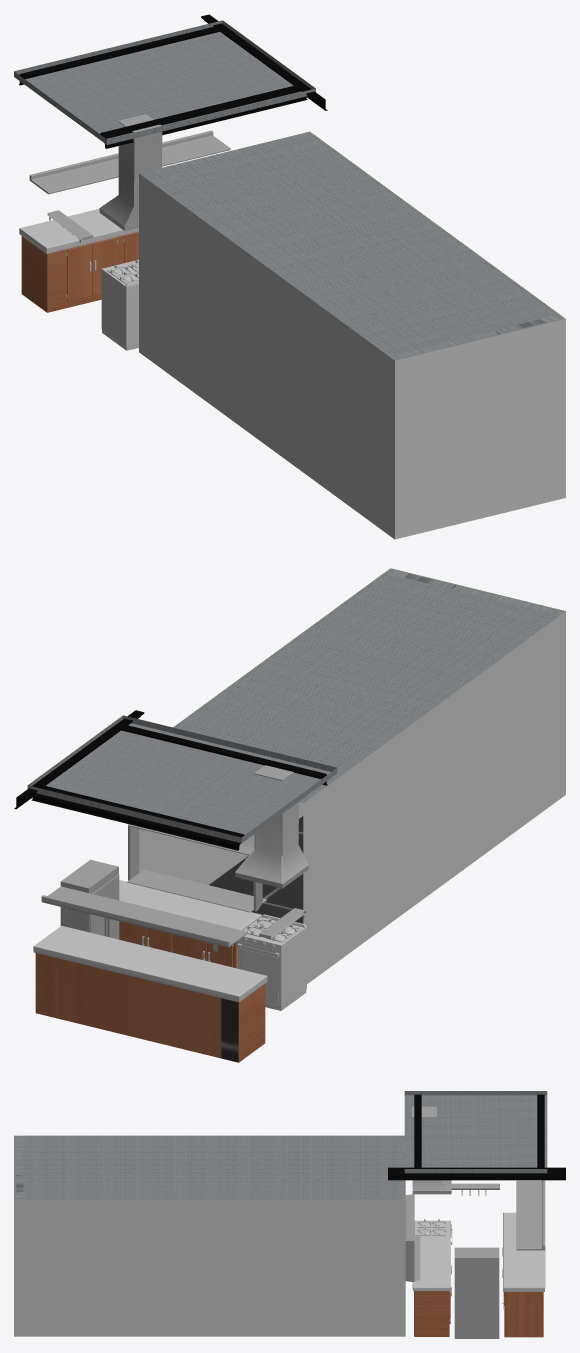
Rendered from kitchen06_02.fbx.
3 views of the same model, one above another, from view 1: azimuth 30°, elevation 25°; view 2: azimuth 150°, elevation 25°; view 3: azimuth 270°, elevation 25° (orthographic). The views are drawn at different scales.
Parts seen in each view (by area): view 1: pCube196, pCube12, polySurface26, pCylinder38, polySurface50, burners5, polySurface123, pCube19 (×2), polySurface126, polySurface127; view 2: pCube196, polySurface26, pCube12, pCylinder38, polySurface50, pCube98, counter_front1, burners5, polySurface126, pCube40, pCube101_f_7_, polySurface123 (+1 smaller); view 3: pCube196, pCube12, pCube40, polySurface26, counter_front1, pCylinder38, polySurface127, pCube98, polySurface50, polySurface123, polySurface126, burners5 (+1 smaller).
Boxes of the visible parts, x1,y1,x2,y2 form: pCube196: [139, 131, 565, 539]; pCube12: [14, 20, 315, 144]; polySurface26: [19, 209, 138, 312]; pCylinder38: [29, 130, 230, 194]; polySurface50: [99, 114, 162, 230]; burners5: [101, 259, 138, 350]; polySurface123: [100, 84, 307, 148]; pCube19 (×2): [67, 237, 116, 301]; polySurface126: [19, 25, 225, 85]; polySurface127: [201, 14, 327, 110]; pCube196: [128, 568, 565, 983]; polySurface26: [33, 926, 267, 1062]; pCube12: [27, 715, 337, 843]; pCylinder38: [41, 886, 247, 951]; polySurface50: [235, 765, 308, 888]; pCube98: [126, 824, 266, 912]; counter_front1: [119, 880, 261, 968]; burners5: [237, 914, 306, 1010]; polySurface126: [31, 784, 244, 850]; pCube40: [60, 859, 118, 932]; pCube101_f_7_: [237, 941, 279, 1005]; polySurface123: [115, 723, 327, 785]; pCube196: [14, 1135, 405, 1336]; pCube12: [404, 1091, 547, 1173]; pCube40: [454, 1247, 499, 1338]; polySurface26: [503, 1212, 545, 1337]; counter_front1: [412, 1236, 450, 1336]; pCylinder38: [516, 1180, 545, 1250]; polySurface127: [388, 1167, 565, 1180]; pCube98: [405, 1194, 420, 1281]; polySurface50: [412, 1106, 451, 1194]; polySurface123: [414, 1094, 421, 1175]; polySurface126: [537, 1094, 544, 1175]; burners5: [414, 1219, 450, 1235].
Bounding box in the file's own units: 12.14 × 12.29 × 36.13.
